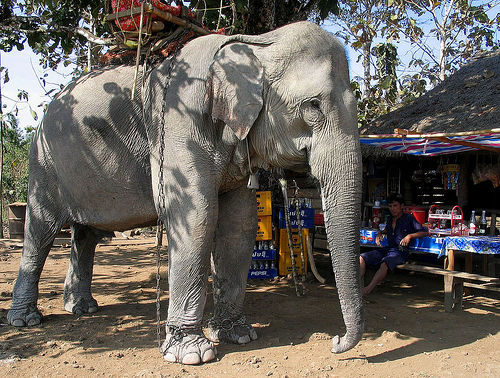elephant: (6, 16, 370, 366)
